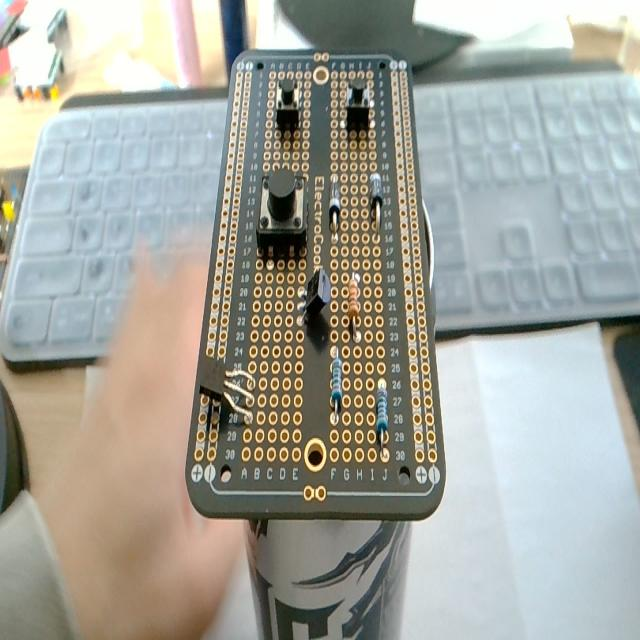diode: (369, 172, 383, 233), (328, 175, 341, 234)
resistor: (329, 352, 344, 423), (346, 273, 361, 343), (375, 384, 388, 441)
switch: (257, 170, 308, 248), (275, 74, 301, 131), (344, 79, 370, 132)
transistor: (198, 354, 256, 434), (295, 267, 331, 331)
